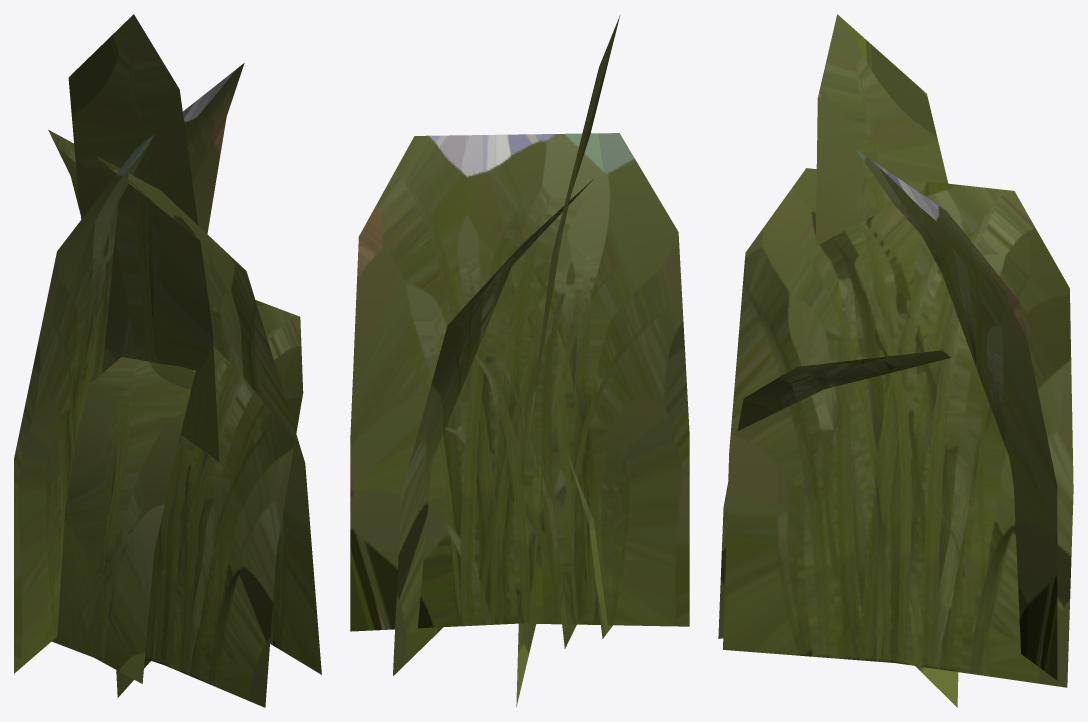
The model's file is GrassTallD_root_afsTREE_xlp.fbx.
The picture shows the model from 3 angles, left to right: view 1: azimuth 30°, elevation 25°; view 2: azimuth 150°, elevation 25°; view 3: azimuth 270°, elevation 25°; orthographic projection. The views are drawn at different scales.
Parts seen in each view (by area): view 1: GrassA01.004_leaf_xt02_xw05; view 2: GrassA01.004_leaf_xt02_xw05; view 3: GrassA01.004_leaf_xt02_xw05.
Part boxes in pixels (<box>): GrassA01.004_leaf_xt02_xw05: <box>14,14,321,707</box>; GrassA01.004_leaf_xt02_xw05: <box>350,15,689,707</box>; GrassA01.004_leaf_xt02_xw05: <box>718,14,1073,707</box>.
Bounding box in the file's own units: 0.2863 × 0.6967 × 0.3339.
